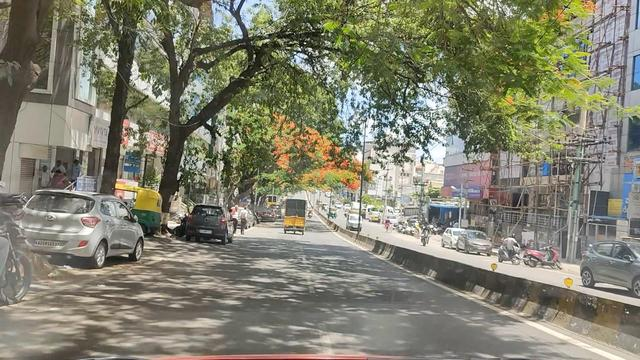HMV: (286, 198, 306, 236)
LMV: (27, 190, 121, 260), (182, 202, 236, 242)
